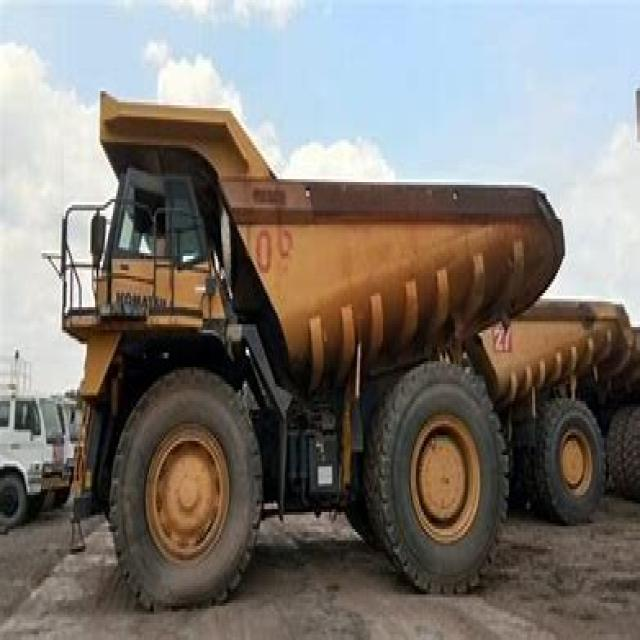dump_truck: (67, 82, 562, 608)
